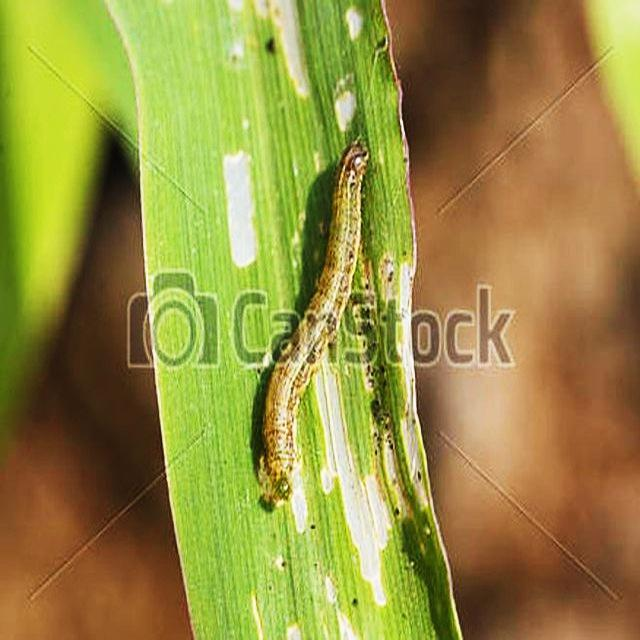Plaga: (255, 139, 377, 511)
